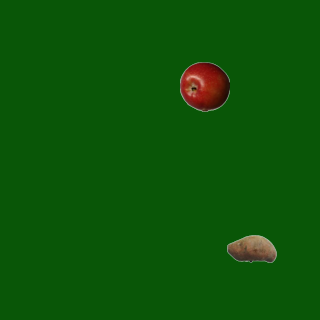Apple Braeburn: (179, 61, 229, 111)
Potato Sweet: (226, 223, 276, 273)
